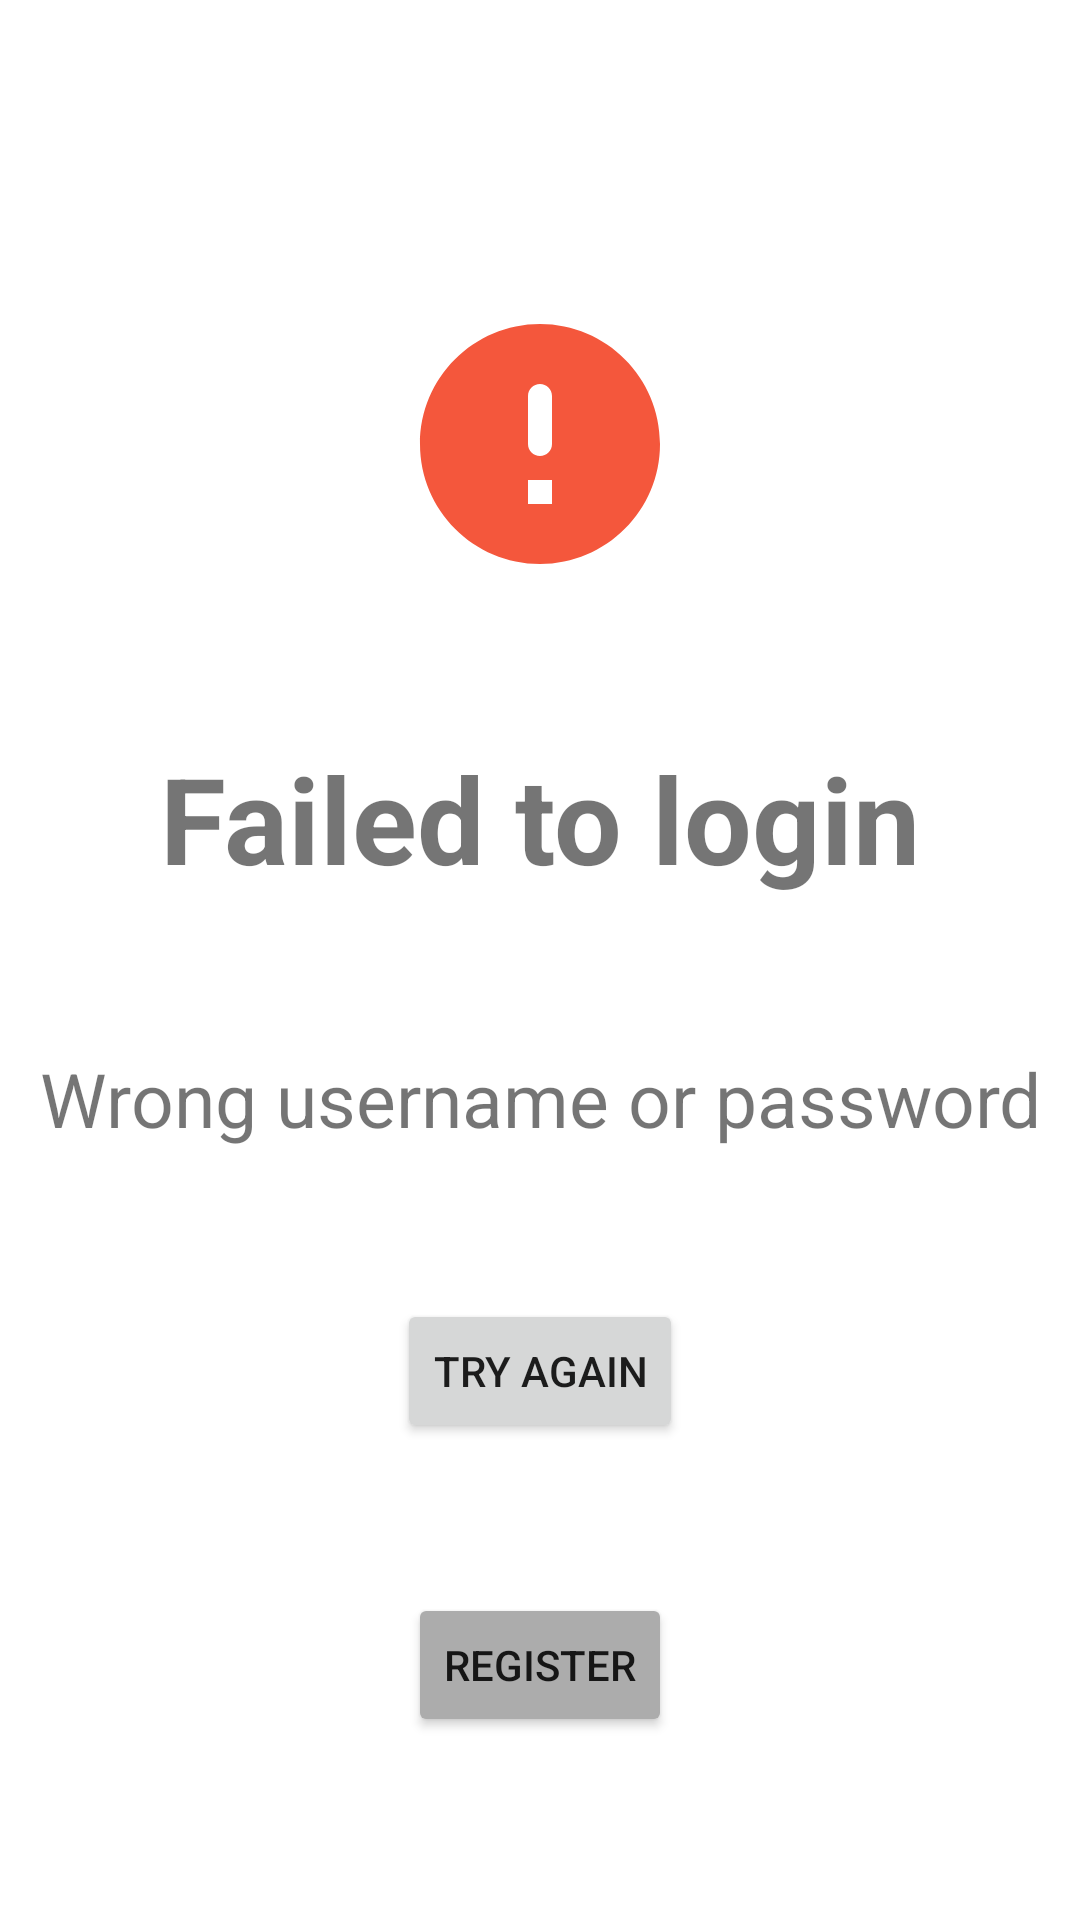

Named icons in this screenshot (1080px×1920px) and their centers, (x=x, y=y):
error: (x=540, y=444)
